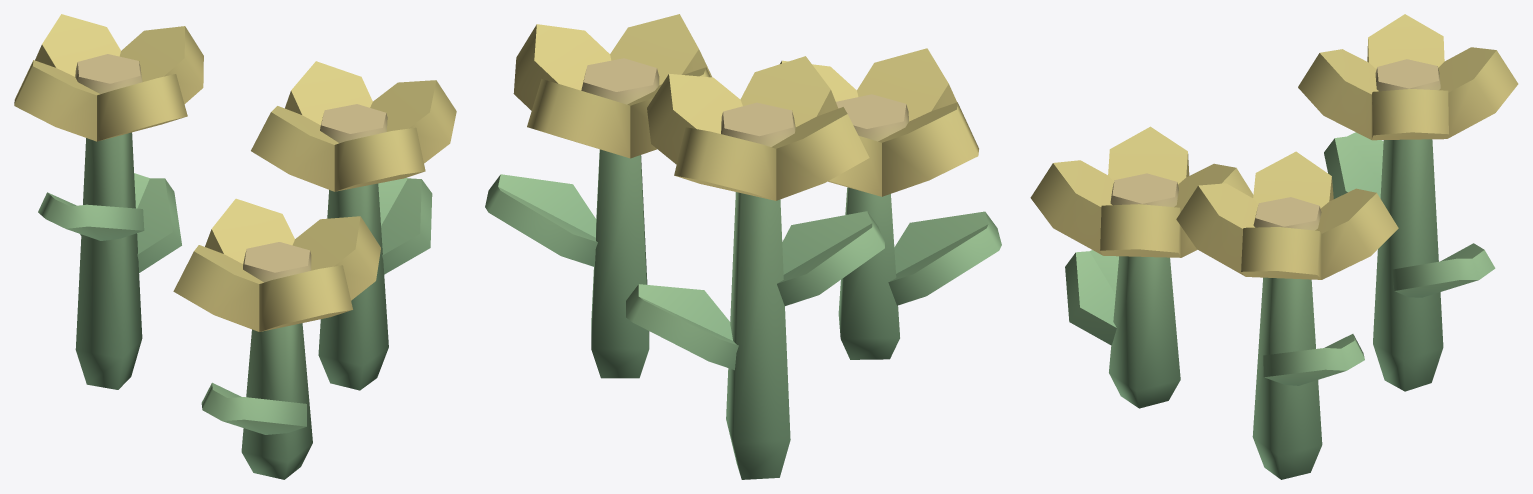
File: flowers_tall_yellow.gltf
3 views of the same model, side by side, from view 1: azimuth 30°, elevation 25°; view 2: azimuth 150°, elevation 25°; view 3: azimuth 270°, elevation 25° (orthographic). The views are drawn at different scales.
Parts seen in each view (by area): view 1: flowers_tall_yellow; view 2: flowers_tall_yellow; view 3: flowers_tall_yellow.
Part boxes in pixels (x1=…): flowers_tall_yellow: x1=14, y1=14, x2=456, y2=479; flowers_tall_yellow: x1=485, y1=14, x2=1001, y2=479; flowers_tall_yellow: x1=1030, y1=14, x2=1518, y2=479.
Size of the model in its own units: 0.546 by 0.4616 by 0.6183.
